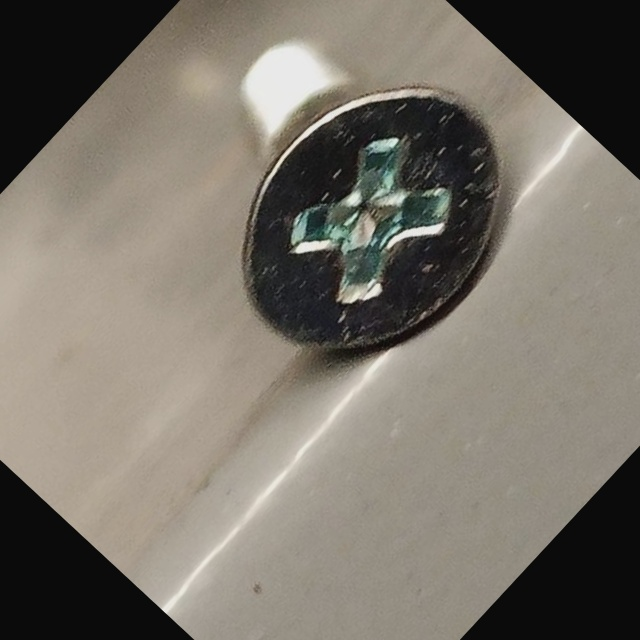phillips: (191, 34, 558, 405)
